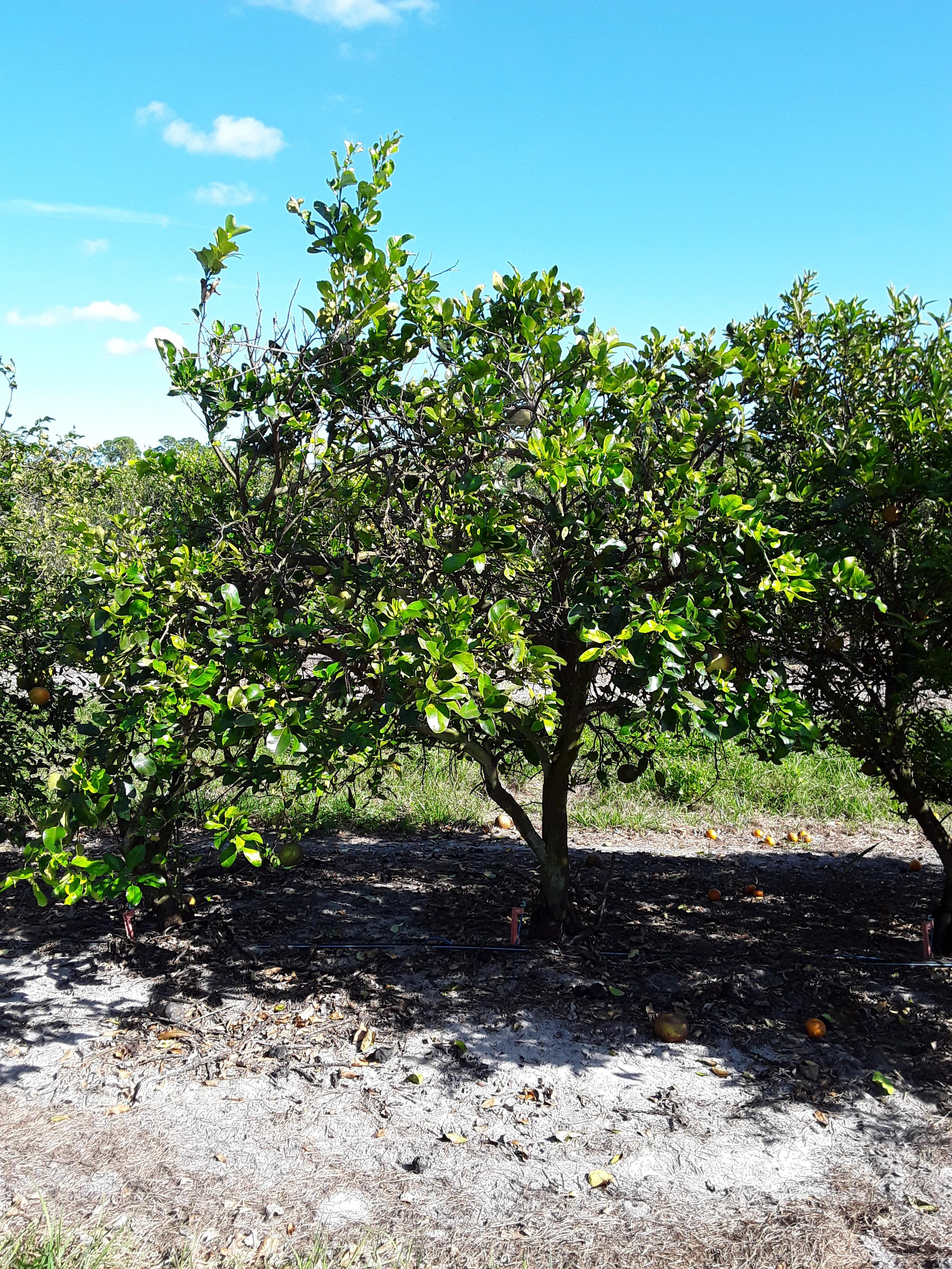fruit_on_ground: (690, 644, 732, 681), (277, 840, 305, 867), (878, 500, 903, 526), (787, 374, 812, 399), (27, 683, 52, 708), (508, 405, 533, 429), (334, 587, 357, 611), (616, 761, 640, 783), (824, 634, 845, 653), (860, 760, 878, 776), (849, 745, 862, 758)
fruit_on_tree: (652, 1010, 689, 1044), (803, 1015, 827, 1040), (584, 851, 604, 869), (493, 813, 511, 830), (181, 893, 198, 909), (907, 857, 924, 872), (707, 886, 722, 902), (743, 883, 757, 896), (705, 829, 718, 840), (763, 836, 776, 847), (753, 886, 765, 897), (786, 831, 798, 842), (797, 829, 809, 839), (801, 834, 812, 843), (753, 829, 763, 838)
